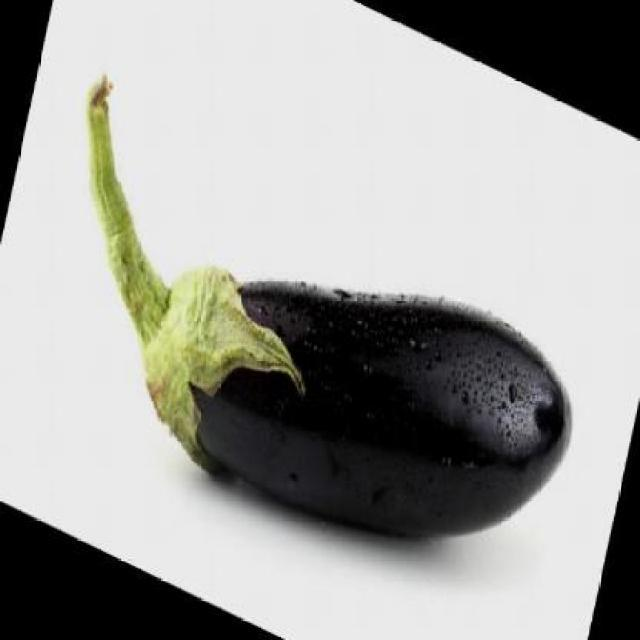eggplant: (67, 71, 577, 541)
